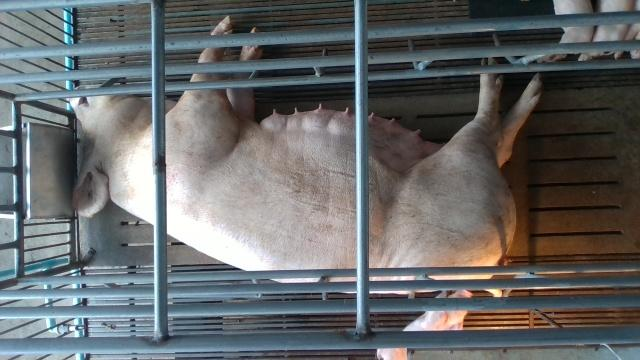piglet: (376, 289, 472, 360), (577, 0, 636, 62), (539, 0, 596, 62)
sow-sleep-lactate: (68, 16, 542, 298)
